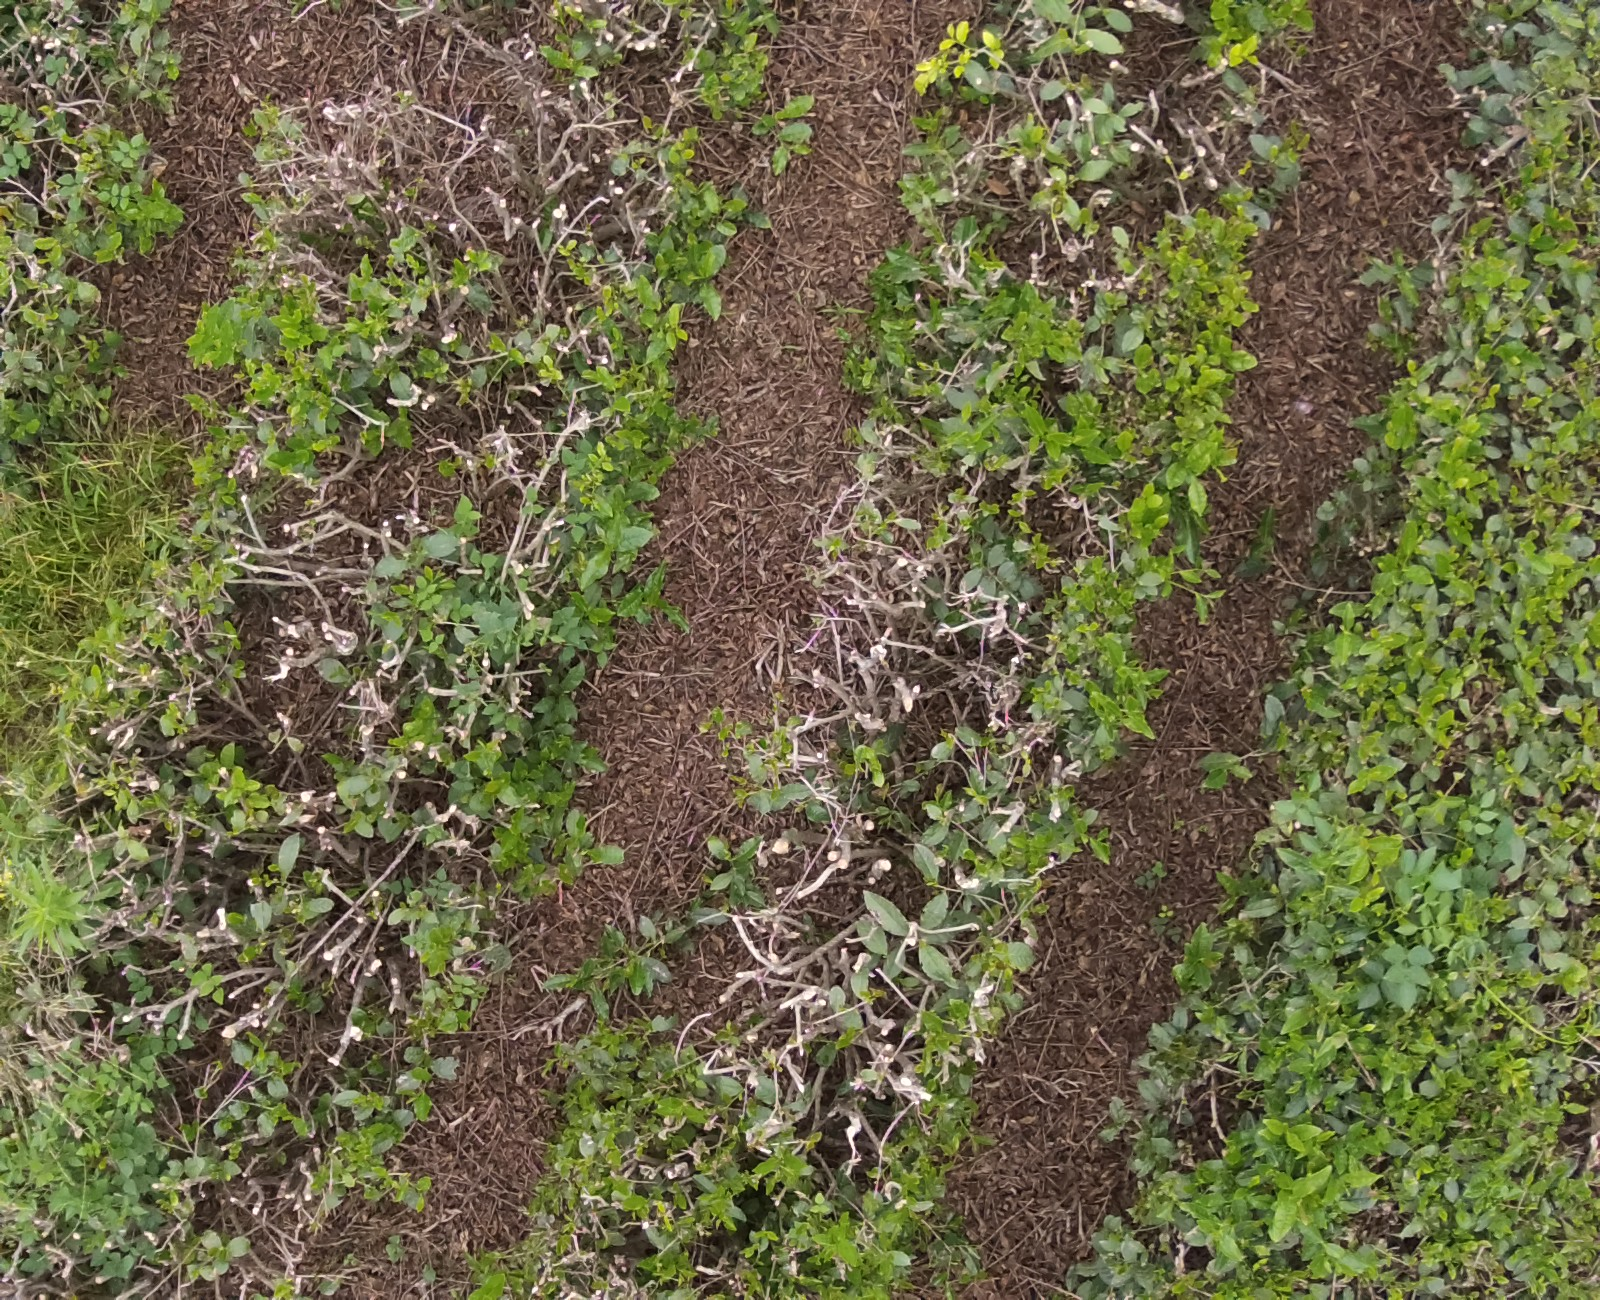new: (913, 74, 930, 97), (988, 49, 1004, 70), (1367, 886, 1385, 903), (31, 237, 57, 249), (957, 21, 970, 44), (980, 32, 996, 50), (232, 767, 245, 788), (1508, 277, 1530, 291), (1243, 36, 1256, 56), (1239, 300, 1260, 312), (1349, 897, 1365, 913), (961, 401, 972, 422), (669, 305, 679, 328), (665, 332, 677, 352), (1238, 161, 1252, 176), (1229, 42, 1243, 57), (1175, 251, 1191, 264), (1567, 517, 1583, 531), (92, 665, 102, 684), (938, 38, 955, 50), (1251, 1258, 1268, 1269), (1031, 126, 1043, 143), (1146, 495, 1164, 507), (1229, 54, 1243, 68), (1453, 478, 1469, 489), (1233, 287, 1244, 302), (1499, 1077, 1510, 1094), (243, 780, 260, 791), (1018, 521, 1031, 535), (1141, 483, 1154, 496), (406, 253, 418, 268), (1370, 869, 1380, 887), (50, 245, 61, 261), (596, 306, 606, 322), (945, 23, 955, 38), (1526, 397, 1542, 407), (216, 793, 237, 801), (596, 440, 605, 458), (663, 1215, 673, 1232), (1359, 1023, 1376, 1032), (425, 565, 434, 582), (38, 105, 52, 117), (677, 328, 689, 341), (958, 50, 970, 64), (953, 65, 965, 78), (1489, 383, 1500, 397), (543, 354, 553, 369), (601, 463, 616, 474), (1244, 54, 1259, 65), (168, 702, 179, 716), (72, 164, 90, 172), (170, 1190, 179, 1206), (915, 62, 934, 70), (1420, 1163, 1435, 1173), (976, 795, 988, 807), (1248, 1175, 1260, 1187), (291, 405, 301, 418), (927, 70, 938, 84), (1197, 344, 1207, 357), (681, 149, 694, 159), (606, 300, 614, 317), (417, 1195, 425, 1212), (602, 285, 612, 300), (1494, 1275, 1508, 1284), (552, 369, 564, 379), (1240, 271, 1252, 281), (1502, 1063, 1512, 1074), (1169, 287, 1179, 298), (1006, 509, 1022, 517), (1469, 423, 1481, 434), (313, 442, 325, 452), (1406, 359, 1416, 373), (1512, 1059, 1526, 1068), (1438, 1208, 1447, 1222), (1510, 1074, 1519, 1088), (1190, 257, 1203, 267), (963, 787, 976, 796), (1439, 399, 1453, 409), (1463, 1242, 1478, 1250), (567, 239, 577, 249), (588, 452, 598, 463), (1088, 621, 1099, 631), (539, 369, 551, 378), (657, 1201, 666, 1212), (1369, 627, 1378, 639), (1185, 354, 1197, 363), (1218, 294, 1230, 304), (1432, 694, 1443, 703), (285, 350, 295, 362), (81, 153, 94, 161), (1514, 1069, 1530, 1076), (1378, 635, 1392, 643), (1538, 314, 1551, 322), (1270, 145, 1278, 158), (1199, 264, 1209, 275), (1137, 287, 1148, 296), (1191, 385, 1201, 395), (421, 952, 431, 962), (487, 740, 498, 749), (567, 259, 576, 269), (36, 257, 50, 264), (46, 310, 58, 318), (559, 248, 570, 256), (1076, 623, 1088, 631), (1412, 604, 1424, 612), (578, 497, 590, 505), (1236, 206, 1244, 218), (1524, 1173, 1532, 1185), (249, 382, 261, 390), (280, 467, 292, 475), (1435, 749, 1445, 759), (768, 1231, 777, 1240), (268, 864, 279, 872), (1504, 763, 1512, 773), (261, 363, 272, 371), (1416, 1169, 1422, 1181), (1491, 1023, 1503, 1029), (257, 1047, 264, 1059), (1422, 395, 1432, 403), (582, 276, 590, 285), (1515, 629, 1526, 635), (1394, 793, 1408, 799), (139, 665, 146, 675), (1011, 493, 1022, 499), (1412, 377, 1417, 387), (233, 373, 244, 378), (1179, 172, 1187, 179)
